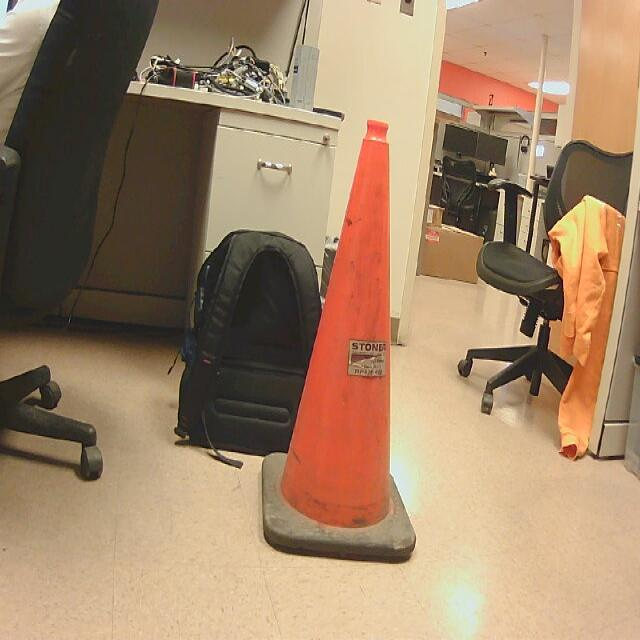traffic cone: (264, 120, 417, 568)
